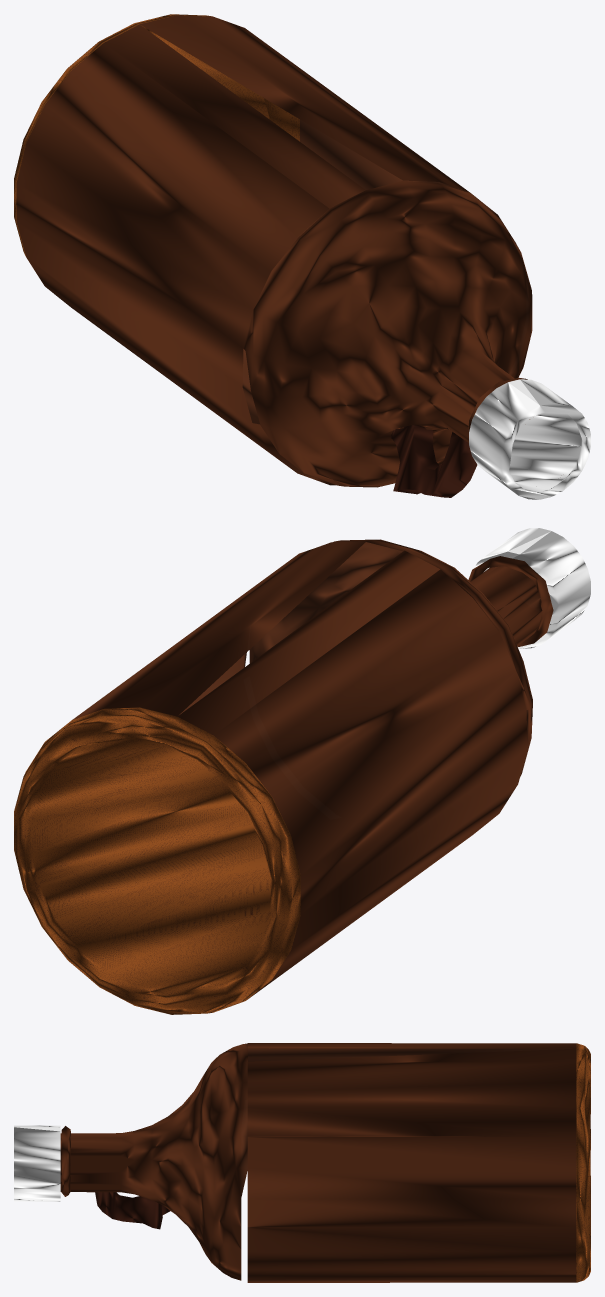
The model's file is model_align.obj.
3 views of the same model, one above another, from view 1: azimuth 30°, elevation 25°; view 2: azimuth 150°, elevation 25°; view 3: azimuth 270°, elevation 25° (orthographic). The views are drawn at different scales.
Size of the model in its own units: 0.0548 by 0.0548 by 0.1329.
